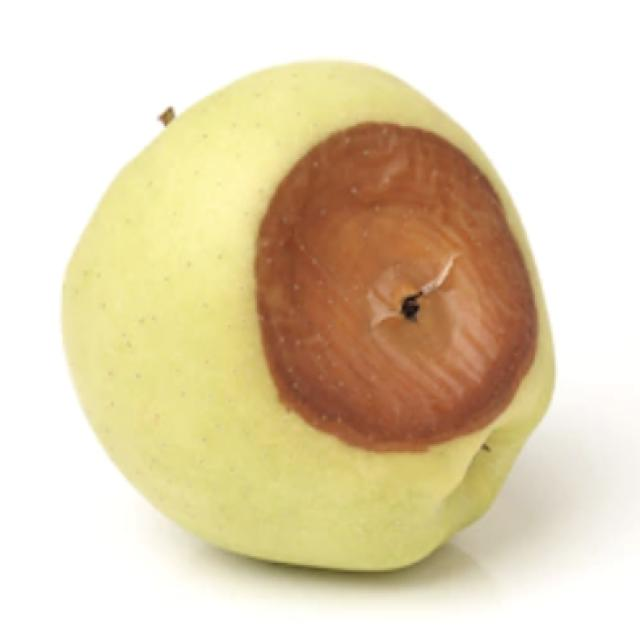apple: (64, 62, 554, 570)
